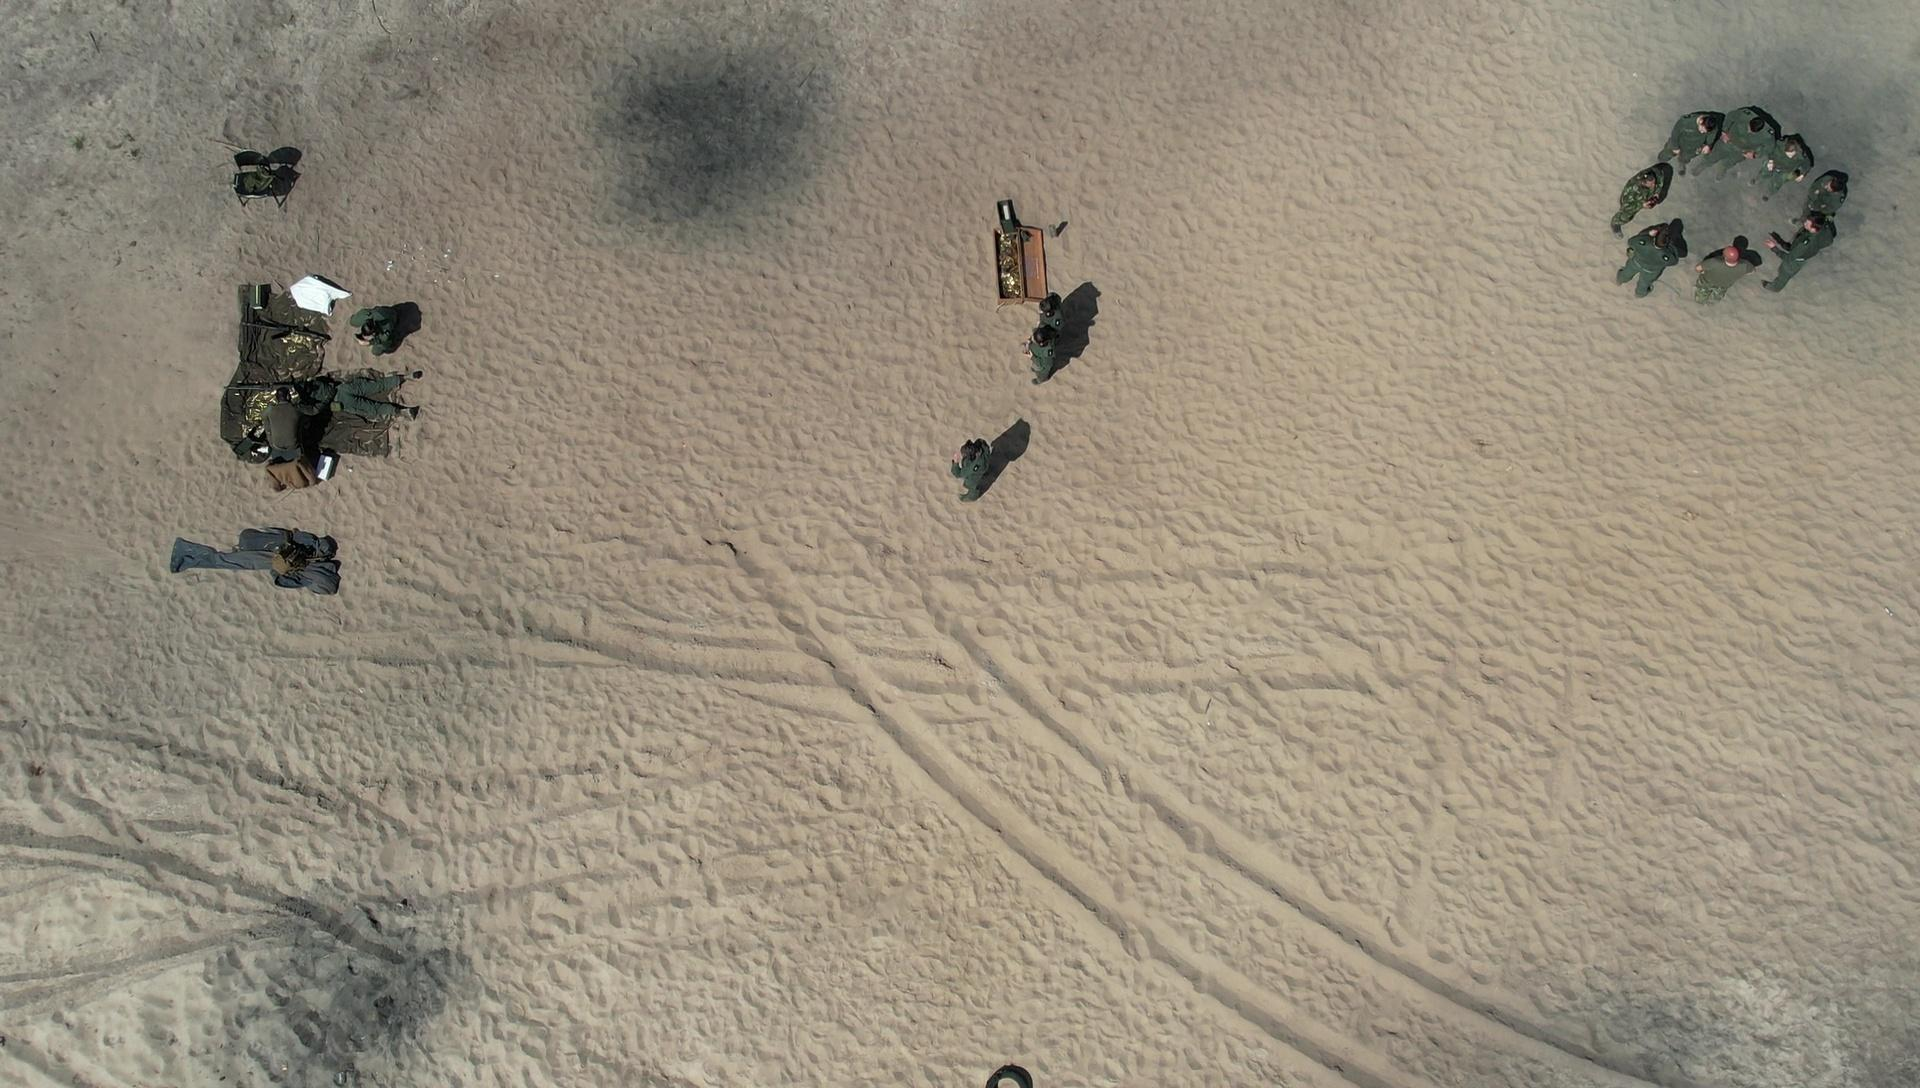Soldier: (282, 368, 417, 430), (1688, 233, 1767, 322), (255, 394, 330, 479), (1625, 214, 1689, 302), (1778, 206, 1842, 289), (353, 291, 423, 357), (1023, 317, 1080, 393), (952, 430, 1005, 506), (1619, 162, 1681, 227), (1673, 103, 1731, 169), (1721, 104, 1779, 162), (1795, 169, 1859, 218), (1036, 291, 1084, 353), (1767, 129, 1815, 189)
